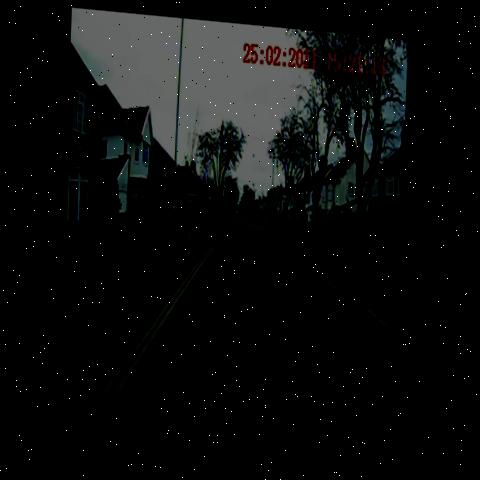pothole: (263, 285, 343, 345)
